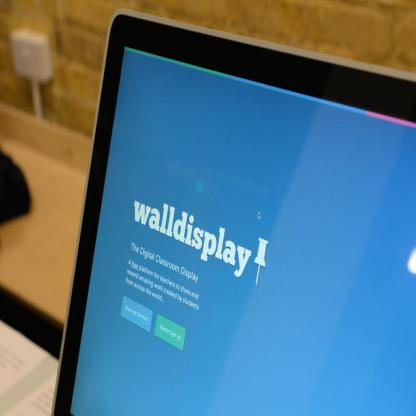board: (50, 9, 416, 416)
